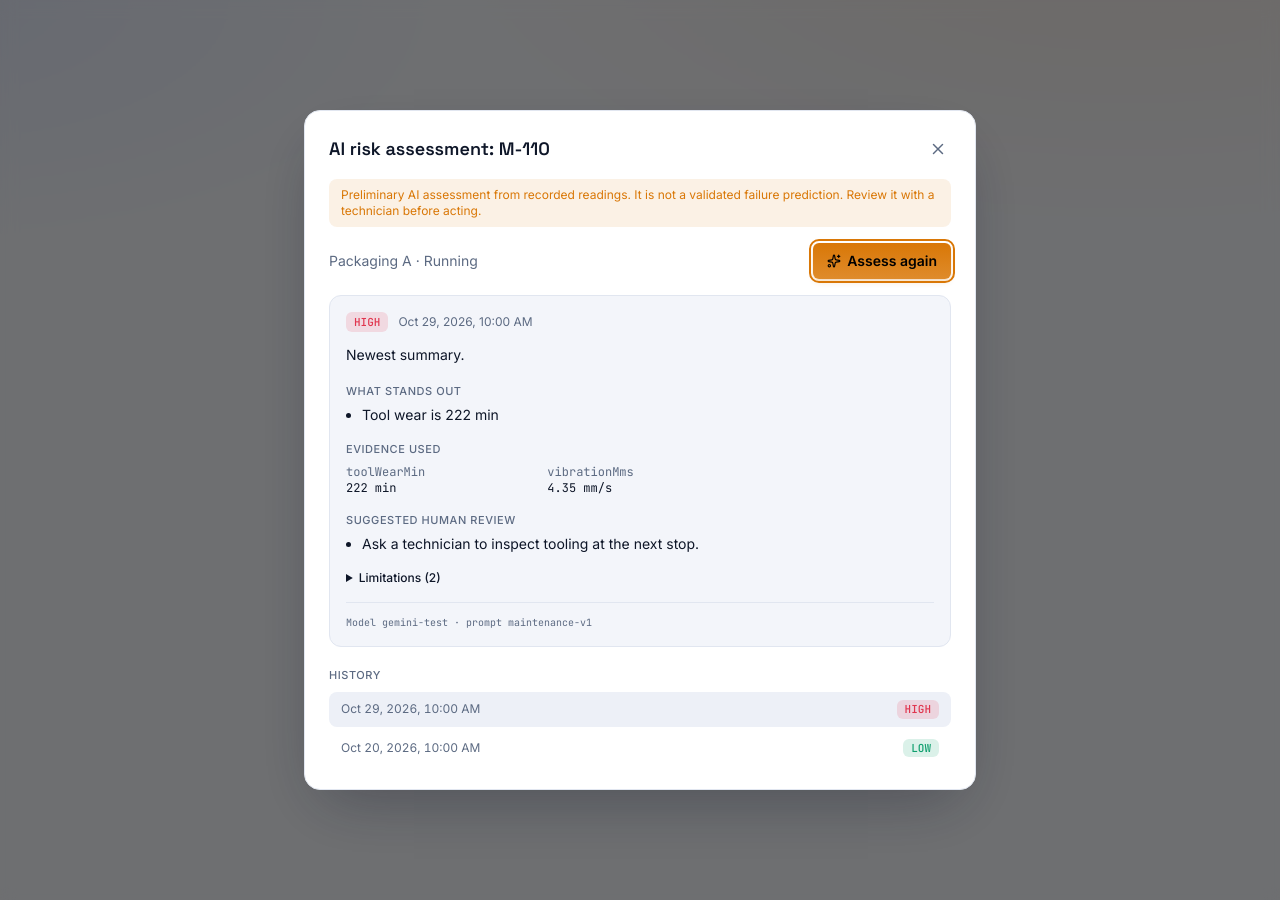
RiskAssessmentDialog › lets the user look back through the history
The image size is (1280, 900).
Check: the text "Newest summary." is shown, box [346,346,465,363]
Click the button "Oct 20, 2026, 10:00 AM LOW": click(411, 747) [329,731,951,765]
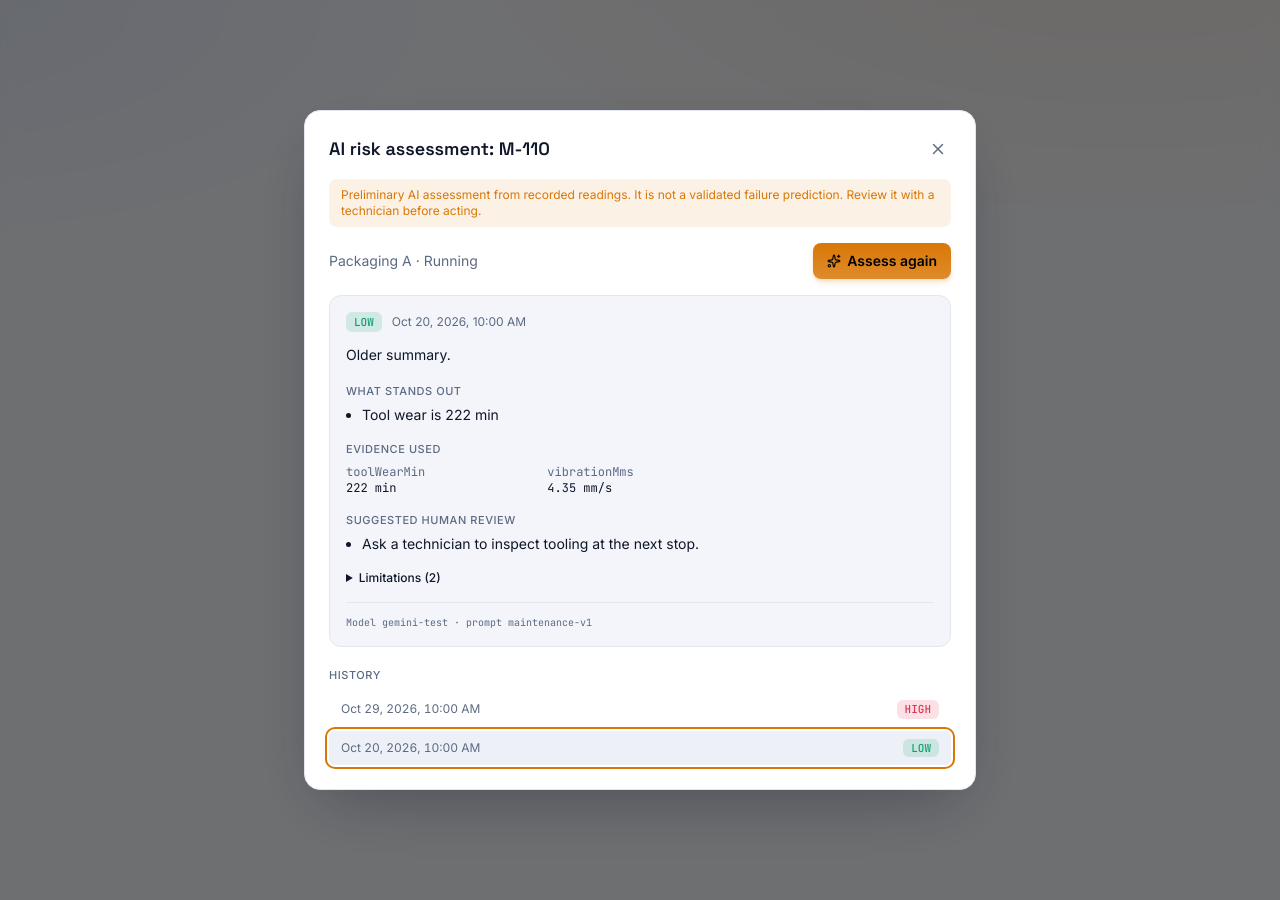
Check: the text "Older summary." is shown, box [346,346,451,363]
Check: the text "Newest summary." is gone
